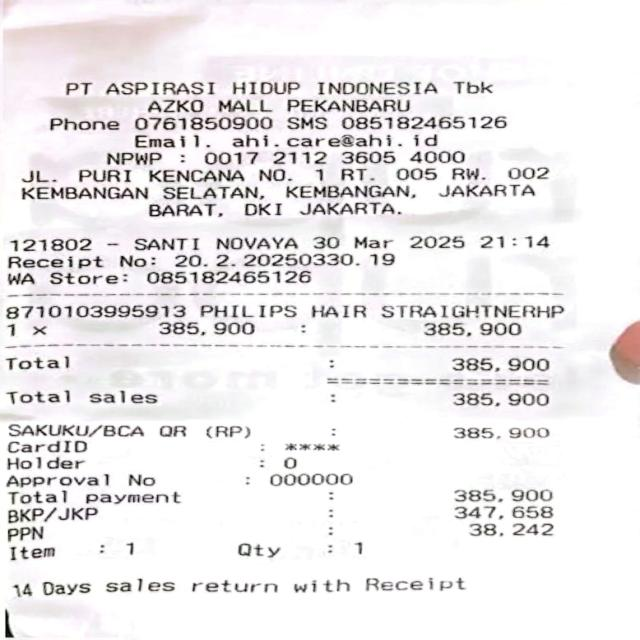date: (304, 233, 578, 253)
store: (56, 76, 528, 116)
total: (8, 350, 556, 377)
